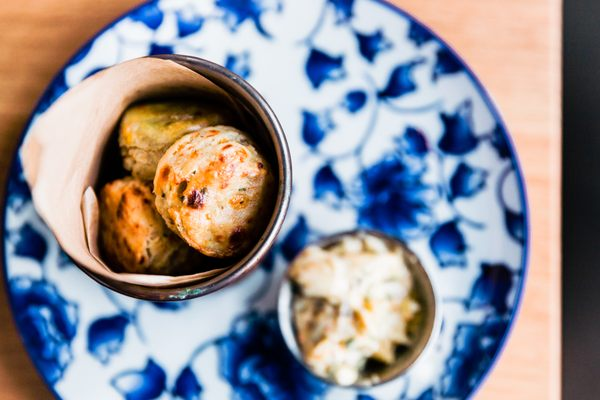sushi: (18, 54, 294, 307), (278, 228, 437, 393)
